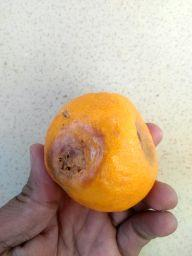Unripe: (45, 93, 159, 215)
